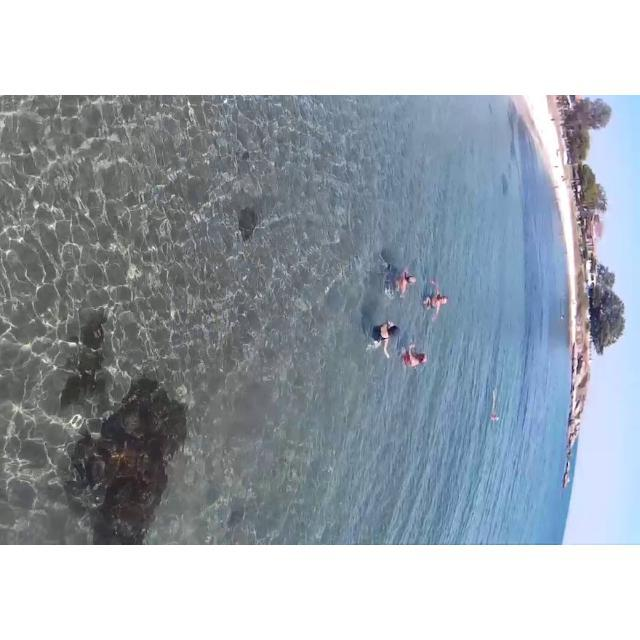human: (383, 256, 421, 301), (423, 279, 460, 321), (372, 308, 401, 356), (399, 343, 430, 375)
